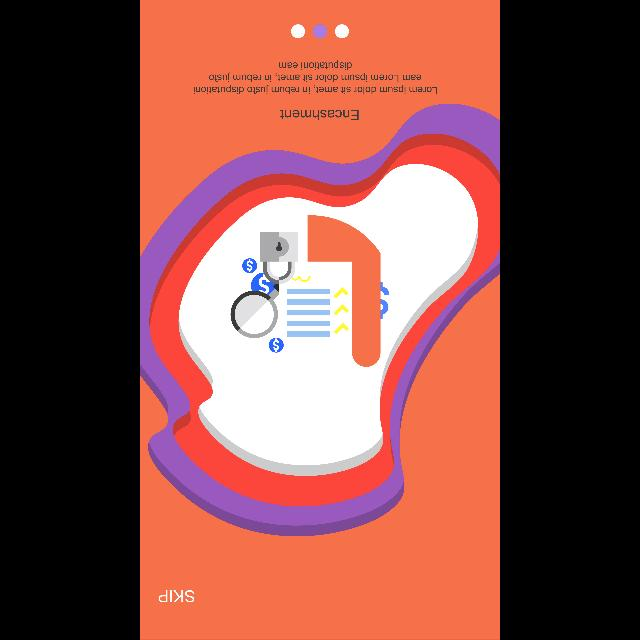backgroundimage: (140, 1, 500, 640)
image: (230, 216, 390, 366)
pageindicator: (291, 24, 349, 38)
text: (193, 60, 437, 94), (280, 110, 358, 120), (158, 590, 194, 602)
